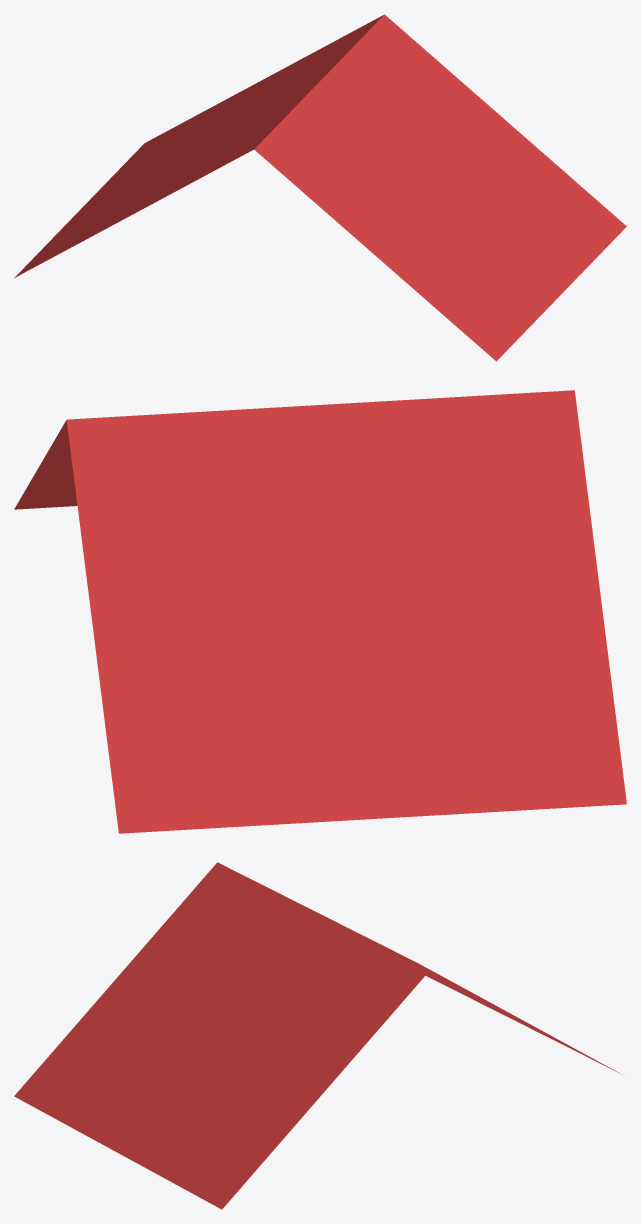
The picture shows the model from 3 angles, top to bottom: view 1: azimuth 30°, elevation 25°; view 2: azimuth 150°, elevation 25°; view 3: azimuth 270°, elevation 25°; orthographic projection. The views are drawn at different scales.
Size of the model in its own units: 5.95 by 6.27 by 1.89.
